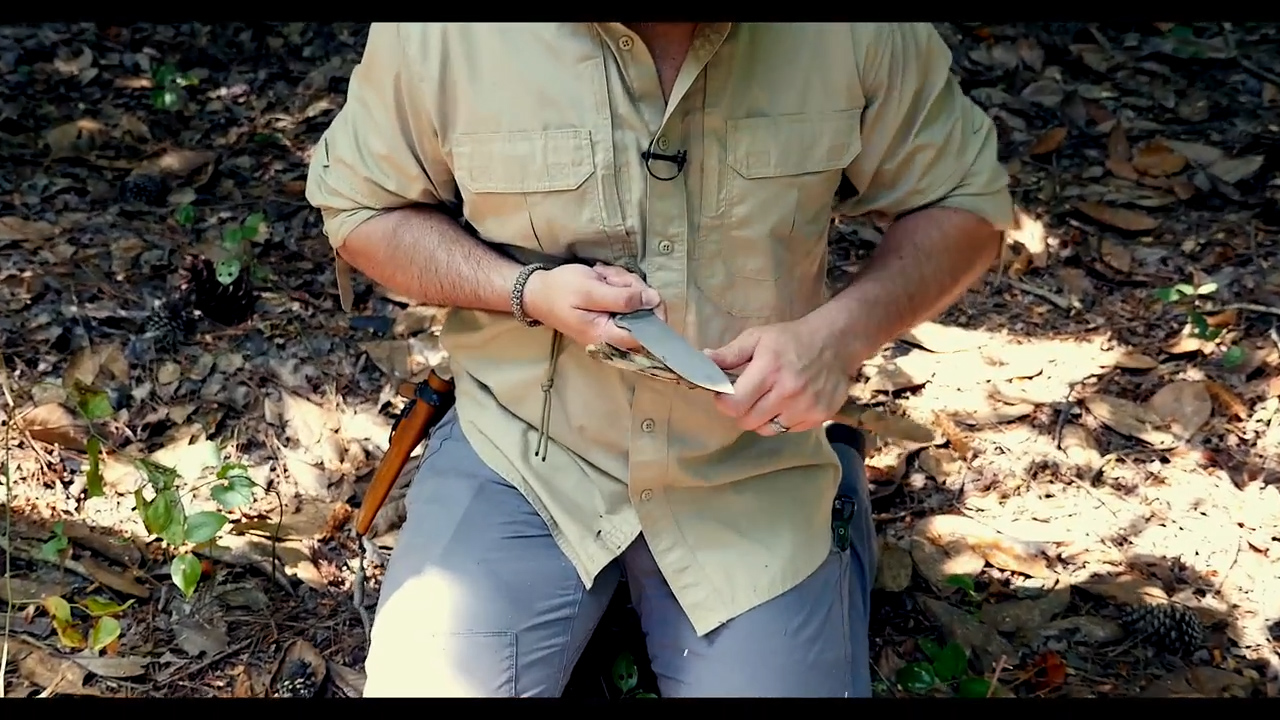knife: (581, 258, 743, 403)
